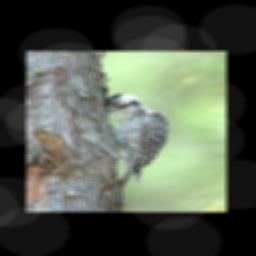Woodpecker: (105, 93, 172, 189)
